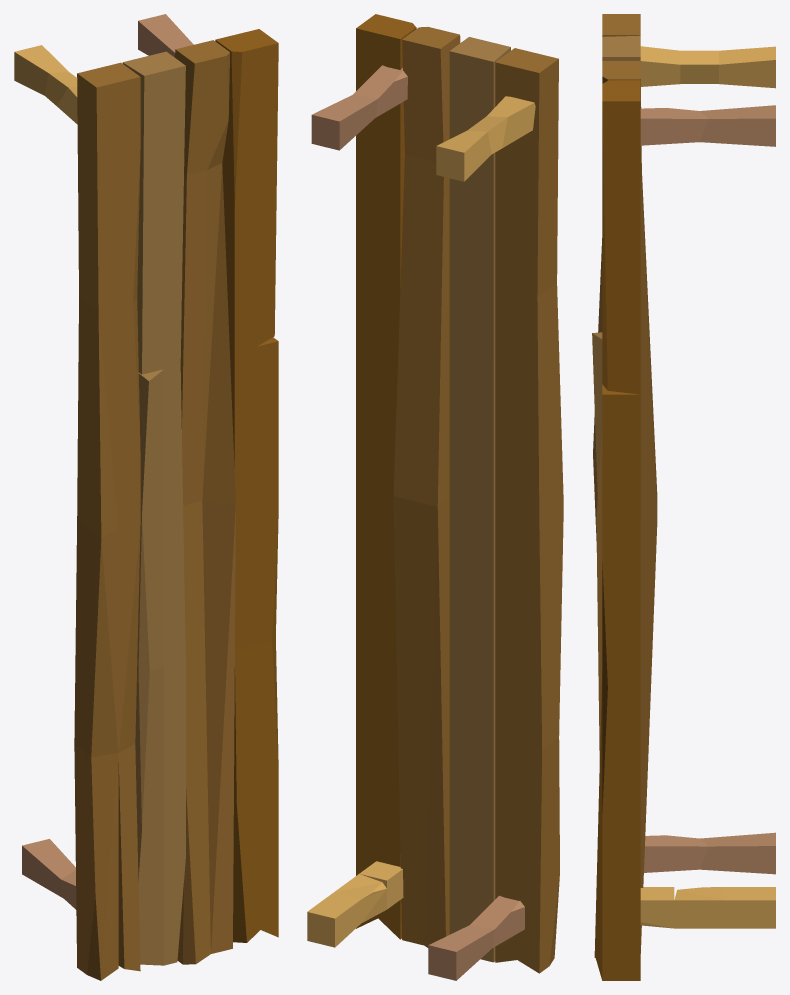
Rendered from Bench.fbx.
3 views of the same model, side by side, from view 1: azimuth 30°, elevation 25°; view 2: azimuth 150°, elevation 25°; view 3: azimuth 270°, elevation 25° (orthographic). The views are drawn at different scales.
Visible parts, largest first — view 1: M_Bench; view 2: M_Bench; view 3: M_Bench.
Part boxes in pixels (x1,y1,x2,y2): M_Bench: (14,14,278,980); M_Bench: (307,14,563,980); M_Bench: (592,14,775,980).
Size of the model in its own units: 0.2077 by 0.9706 by 0.1819.
1 material, 1 textured.
